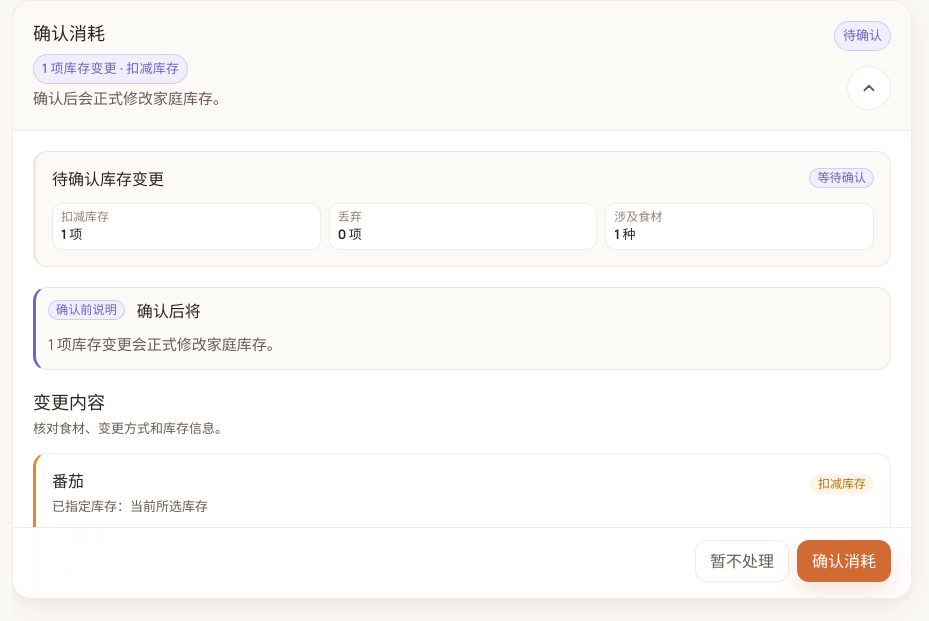
Test: inventory operation approval › blocks manual consume batch ids that are not from the batch dropdown
The image size is (929, 621).
Click the button "确认消耗" at (844, 561), box [797,540,891,582]
(page scrolled)
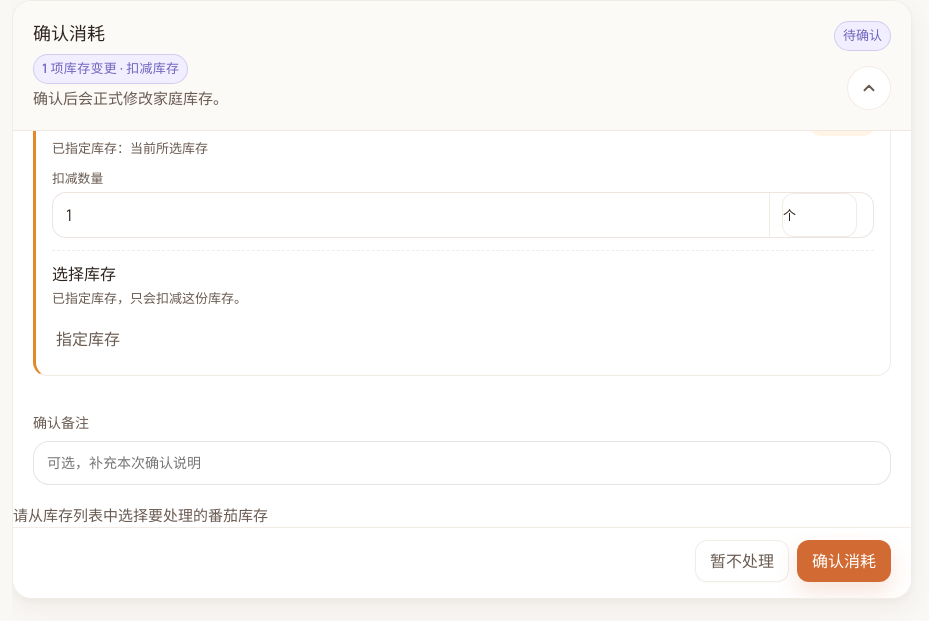
Result: the message "请从库存列表中选择要处理的番茄库存" is shown at [13,505,268,526]
